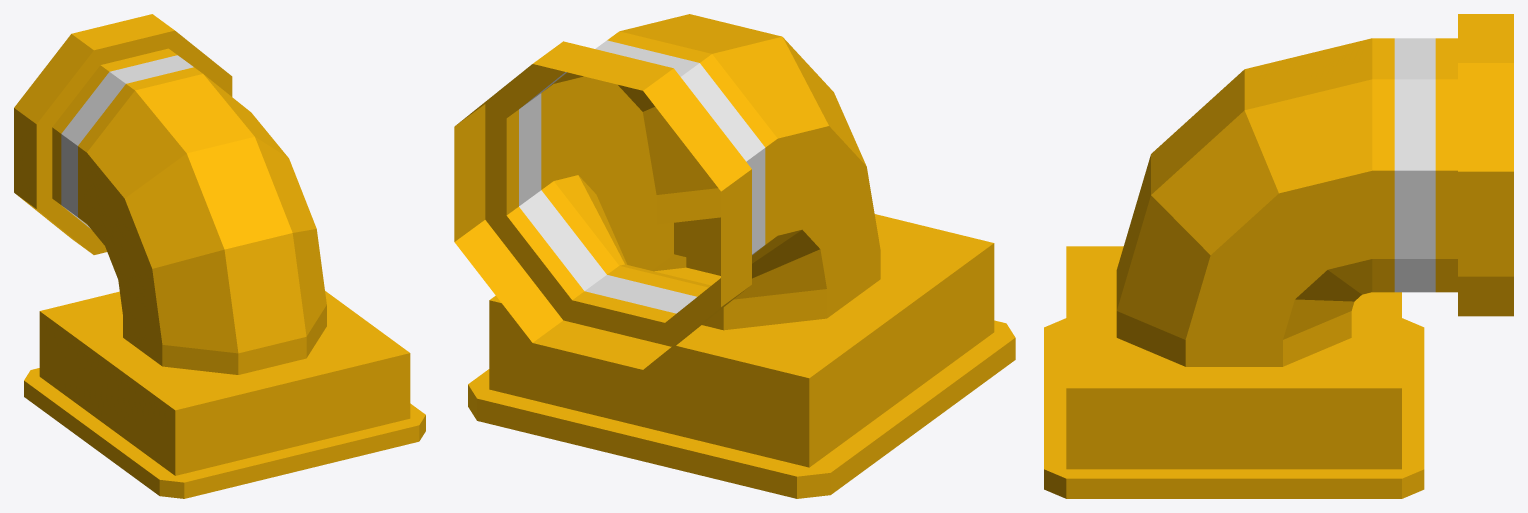
The model's file is modular_engine_air_manifold_housing.dae.
3 views of the same model, side by side, from view 1: azimuth 30°, elevation 25°; view 2: azimuth 150°, elevation 25°; view 3: azimuth 270°, elevation 25° (orthographic). The views are drawn at different scales.
Parts seen in each view (by area): view 1: Cube; view 2: Cube; view 3: Cube.
Boxes of the visible parts, x1,y1,x2,y2 form: Cube: (14, 14, 425, 498); Cube: (454, 14, 1015, 498); Cube: (1044, 14, 1513, 498).
Size of the model in its own units: 0.17 by 0.21 by 0.1875.
